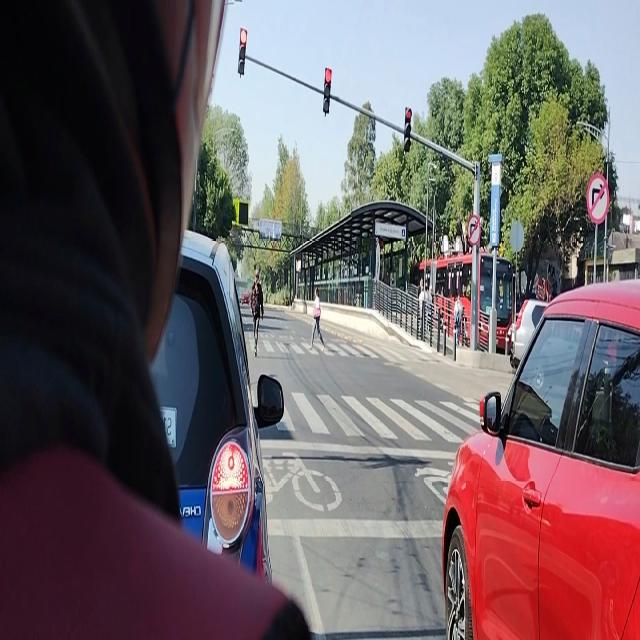adult: (251, 269, 263, 356), (310, 286, 324, 350)
